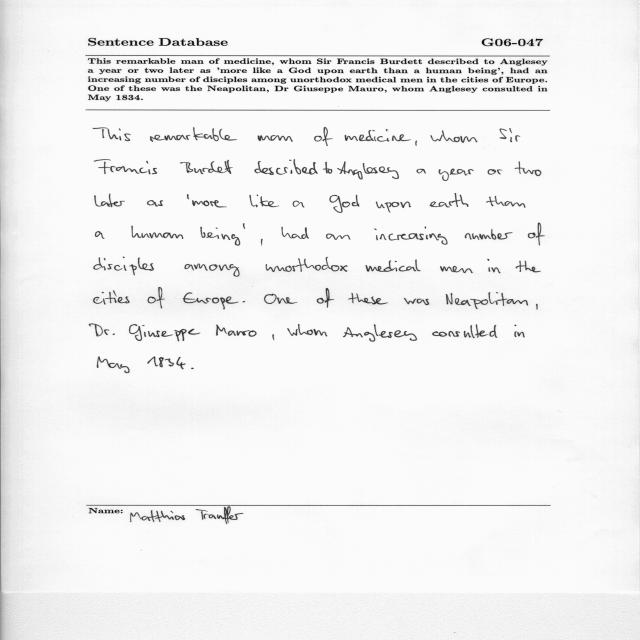word: (374, 227, 448, 245), (343, 324, 417, 342), (150, 127, 237, 142), (266, 257, 348, 272), (129, 324, 200, 341), (337, 162, 399, 180), (94, 257, 154, 275), (254, 159, 318, 175), (183, 293, 239, 310), (94, 160, 157, 175), (432, 324, 497, 338), (345, 129, 411, 142), (185, 263, 240, 277), (201, 227, 241, 246), (180, 160, 233, 174), (366, 259, 421, 272), (131, 226, 183, 239), (446, 293, 488, 309), (431, 130, 478, 143), (430, 193, 469, 208), (488, 292, 528, 306), (330, 195, 360, 213), (216, 324, 257, 337), (93, 128, 131, 142), (465, 229, 513, 240), (97, 357, 130, 373), (94, 291, 130, 305), (486, 196, 526, 208), (348, 293, 388, 305), (287, 324, 327, 336), (147, 357, 186, 369), (439, 169, 474, 181), (515, 162, 542, 177), (95, 194, 125, 207), (376, 202, 411, 213), (147, 288, 165, 309), (528, 223, 545, 245), (249, 195, 279, 207), (314, 127, 332, 146), (264, 294, 298, 304), (317, 288, 334, 308), (281, 227, 309, 239), (515, 261, 541, 273), (89, 324, 115, 336), (500, 128, 520, 142), (192, 200, 227, 208), (258, 135, 293, 142), (440, 266, 473, 273), (487, 259, 501, 273), (404, 298, 429, 305), (326, 234, 351, 240), (514, 325, 525, 338), (147, 200, 163, 207), (323, 162, 332, 174), (488, 169, 502, 175), (95, 231, 105, 239), (293, 201, 305, 207), (416, 169, 426, 173), (261, 239, 263, 246), (415, 140, 417, 146), (243, 223, 245, 229), (536, 304, 538, 310), (273, 335, 275, 341), (187, 195, 189, 200), (243, 301, 246, 303), (191, 368, 194, 369)
